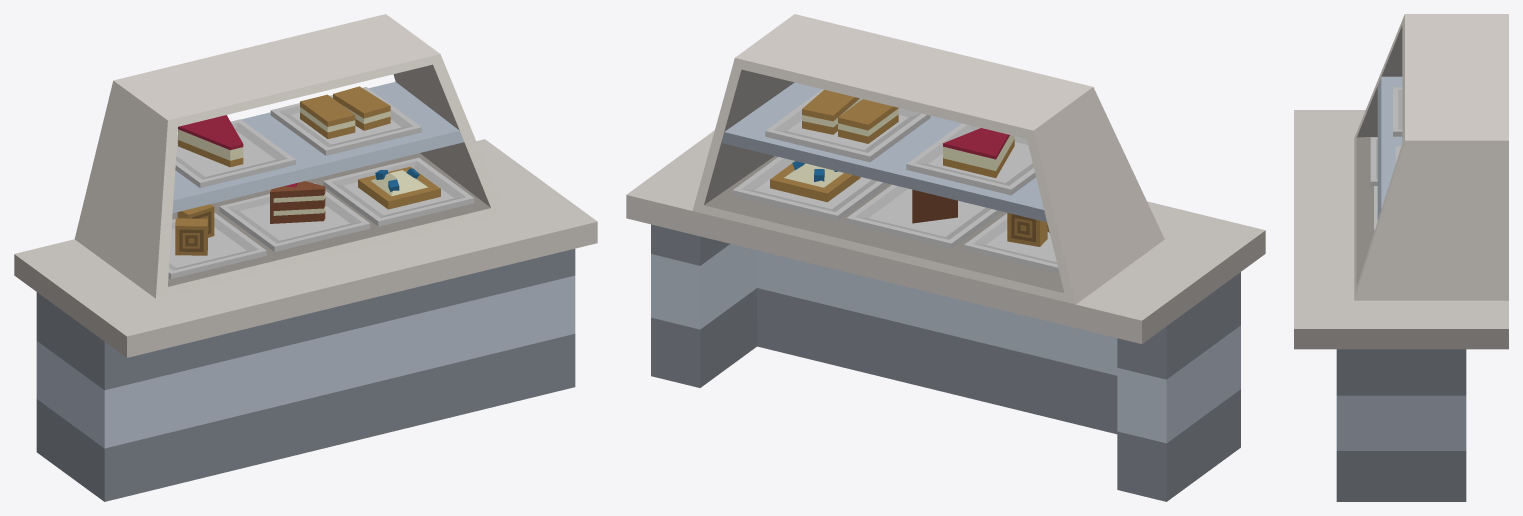
Rendered from CounterFood.glb.
3 views of the same model, side by side, from view 1: azimuth 30°, elevation 25°; view 2: azimuth 150°, elevation 25°; view 3: azimuth 270°, elevation 25° (orthographic). The views are drawn at different scales.
Visible parts, largest first — view 1: SI_Prop_Counter_05; view 2: SI_Prop_Counter_05; view 3: SI_Prop_Counter_05.
Part boxes in pixels (x1,y1,x2,y2): SI_Prop_Counter_05: [14, 14, 597, 501]; SI_Prop_Counter_05: [626, 14, 1265, 501]; SI_Prop_Counter_05: [1294, 14, 1508, 501].
Size of the model in its own units: 0.04 by 0.0269 by 0.0166.
1 material, 1 textured.
